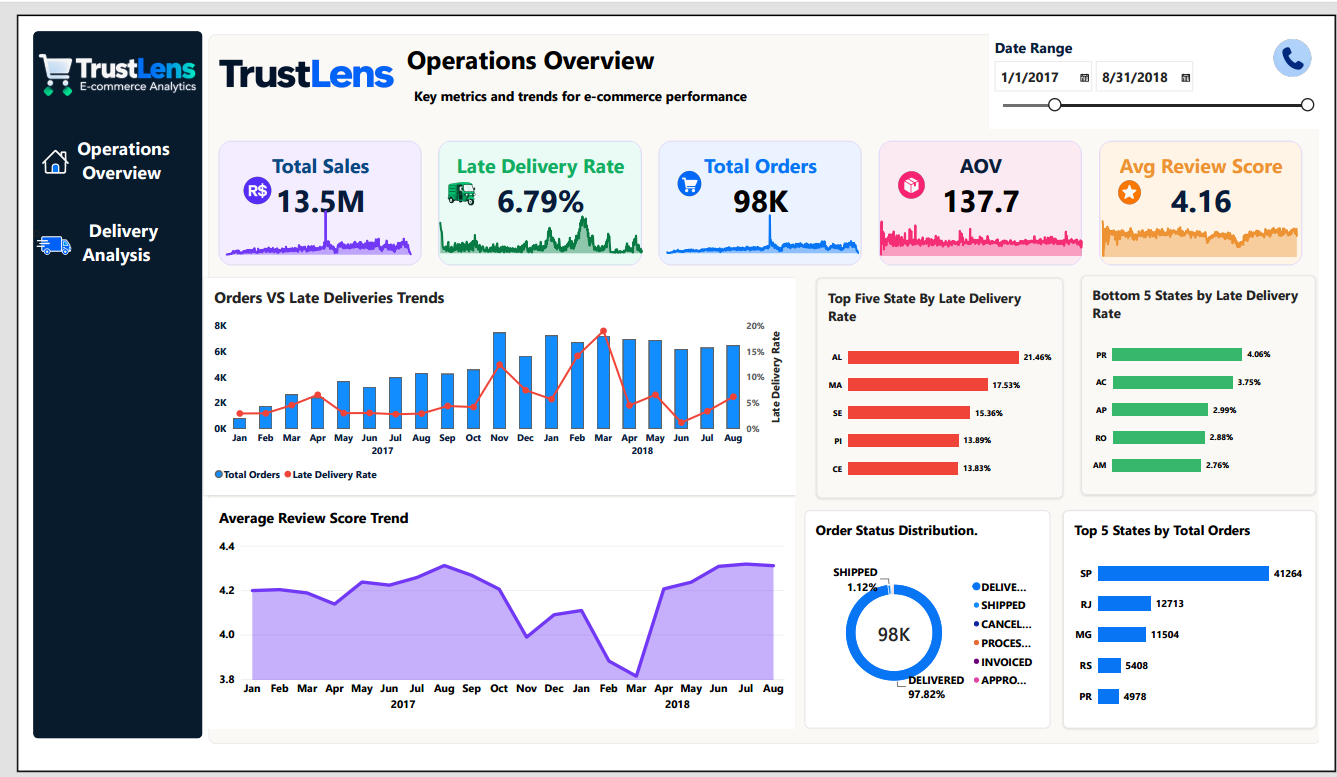

The page's visual inventory and layout, read from the dashboard file:
{"tool":"powerbi","page":{"name":"Operations Overview","canvas":[1920,1080],"ordinal":0},"visuals":[{"type":"shape","box":[261.6,4.6,1660,1060],"z":0},{"type":"shape","box":[0,0,252.7,1057.2],"z":1000},{"type":"image","box":[0,0,252.7,127.4],"z":2000},{"type":"cardVisual","fields":{"Data":["trustlens_final_data_cleaned.Dashboard Title"]},"box":[527.9,0,431.5,78],"z":3000},{"type":"cardVisual","fields":{"Data":["trustlens_final_data_cleaned.Dashboard Subtitle"]},"box":[553.1,73.4,535.1,44.4],"z":4000},{"type":"slicer","fields":{"Values":["DateTable.Date"]},"box":[1427.7,0,492.8,145.4],"z":5000},{"type":"cardVisual","fields":{"Data":["trustlens_final_data_cleaned.Total Sales"]},"box":[276.7,163.6,303.2,186],"z":6000},{"type":"lineChart","fields":{"Category":["DateTable.Date"],"Y":["trustlens_final_data_cleaned.Total Sales"]},"box":[262.6,246.4,327.2,105],"z":7000},{"type":"image","box":[1848.1,0,64.7,78.8],"z":8000},{"type":"cardVisual","fields":{"Data":["trustlens_final_data_cleaned.Late Delivery Rate"]},"box":[605.4,163.6,303.2,186],"z":9000},{"type":"cardVisual","fields":{"Data":["trustlens_final_data_cleaned.Avg Review Score"]},"box":[1591.6,163.6,303.2,186],"z":10000},{"type":"cardVisual","fields":{"Data":["trustlens_final_data_cleaned.Total Orders"]},"box":[934.2,163.6,303.2,186],"z":11000},{"type":"cardVisual","fields":{"Data":["trustlens_final_data_cleaned.AOV"]},"box":[1262.9,163.6,303.2,186],"z":12000},{"type":"image","box":[616,216.1,46.5,50.5],"z":13000},{"type":"lineChart","fields":{"Category":["DateTable.Date"],"Y":["trustlens_final_data_cleaned.Avg Review Score"]},"box":[1571.4,260.6,341.3,92.9],"z":14000},{"type":"lineChart","fields":{"Category":["DateTable.Date"],"Y":["trustlens_final_data_cleaned.Late Delivery Rate"]},"box":[581.7,236.3,353.5,113.1],"z":15000},{"type":"image","box":[1615.8,220.2,42,40],"z":16000},{"type":"lineChart","fields":{"Category":["DateTable.Date"],"Y":["trustlens_final_data_cleaned.Total Orders"]},"box":[921,236.3,337.3,113.1],"z":17000},{"type":"image","box":[959.3,206.6,42,40.4],"z":18000},{"type":"lineChart","fields":{"Category":["DateTable.Date"],"Y":["trustlens_final_data_cleaned.AOV"]},"box":[1240.2,252.5,351.4,101],"z":19000},{"type":"image","box":[1288.6,206,45,46],"z":20000},{"type":"lineStackedColumnComboChart","title":"Orders VS Late Deliveries Trends","fields":{"Category":["DateTable.Year","DateTable.Month"],"Y":["trustlens_final_data_cleaned.Total Orders"],"Y2":["trustlens_final_data_cleaned.Late Delivery Rate"]},"box":[254.7,369.5,883.6,323.6],"z":21000},{"type":"clusteredBarChart","title":"Top Five State By Late Delivery Rate ","fields":{"Category":["customers.customer_state"],"Y":["trustlens_final_data_cleaned.Late Delivery Rate"]},"box":[1170.5,369.5,367.2,328.2],"z":22000},{"type":"clusteredBarChart","title":"Bottom 5 States by Late Delivery Rate","fields":{"Category":["customers.customer_state"],"Y":["trustlens_final_data_cleaned.Late Delivery Rate"]},"box":[1565.2,364.9,350,328.2],"z":23000},{"type":"lineChart","title":"Average Review Score Trend","fields":{"Category":["DateTable.Year","DateTable.Month"],"Y":["trustlens_final_data_cleaned.Avg Review Score"]},"box":[261.6,697.7,876.7,344.3],"z":24000},{"type":"donutChart","title":"Order Status Distribution.","fields":{"Category":["trustlens_final_data_cleaned.order_status"],"Y":["trustlens_final_data_cleaned.Total Orders"]},"box":[1152.1,716,367.2,325.9],"z":25000},{"type":"clusteredBarChart","title":"Top 5 States by Total Orders","fields":{"Category":["customers.customer_state"],"Y":["trustlens_final_data_cleaned.Total Orders"]},"box":[1537.7,716,378.7,325.9],"z":26000},{"type":"image","box":[261.6,0,289.2,126.2],"z":27000},{"type":"image","box":[314.4,206.6,41.3,62],"z":28000},{"type":"actionButton","box":[4,270.7,248.4,115.1],"z":29000},{"type":"image","box":[0,279.6,60.1,78.6],"z":30000},{"type":"textbox","box":[0,278.7,246.6,92.8],"z":31000},{"type":"textbox","box":[0,155.5,246.4,90.9],"z":32000},{"type":"image","box":[6.1,163.6,54.5,62.6],"z":33000}]}

Visuals, with their boxes on the page's 1920x1080 design canvas (x1, y1, x2, y2). These are canvas units, not pixel positions in the 1337x777 screenshot, which may show the page scaled, cropped or inside an application window:
shape: bbox=[262, 5, 1922, 1065]
shape: bbox=[0, 0, 253, 1057]
image: bbox=[0, 0, 253, 127]
cardVisual - trustlens_final_data_cleaned.Dashboard Title: bbox=[528, 0, 959, 78]
cardVisual - trustlens_final_data_cleaned.Dashboard Subtitle: bbox=[553, 73, 1088, 118]
slicer - DateTable.Date: bbox=[1428, 0, 1920, 145]
cardVisual - trustlens_final_data_cleaned.Total Sales: bbox=[277, 164, 580, 350]
lineChart - DateTable.Date x trustlens_final_data_cleaned.Total Sales: bbox=[263, 246, 590, 351]
image: bbox=[1848, 0, 1913, 79]
cardVisual - trustlens_final_data_cleaned.Late Delivery Rate: bbox=[605, 164, 909, 350]
cardVisual - trustlens_final_data_cleaned.Avg Review Score: bbox=[1592, 164, 1895, 350]
cardVisual - trustlens_final_data_cleaned.Total Orders: bbox=[934, 164, 1237, 350]
cardVisual - trustlens_final_data_cleaned.AOV: bbox=[1263, 164, 1566, 350]
image: bbox=[616, 216, 662, 267]
lineChart - DateTable.Date x trustlens_final_data_cleaned.Avg Review Score: bbox=[1571, 261, 1913, 354]
lineChart - DateTable.Date x trustlens_final_data_cleaned.Late Delivery Rate: bbox=[582, 236, 935, 349]
image: bbox=[1616, 220, 1658, 260]
lineChart - DateTable.Date x trustlens_final_data_cleaned.Total Orders: bbox=[921, 236, 1258, 349]
image: bbox=[959, 207, 1001, 247]
lineChart - DateTable.Date x trustlens_final_data_cleaned.AOV: bbox=[1240, 252, 1592, 354]
image: bbox=[1289, 206, 1334, 252]
"Orders VS Late Deliveries Trends" lineStackedColumnComboChart: bbox=[255, 370, 1138, 693]
"Top Five State By Late Delivery Rate " clusteredBarChart: bbox=[1170, 370, 1538, 698]
"Bottom 5 States by Late Delivery Rate" clusteredBarChart: bbox=[1565, 365, 1915, 693]
"Average Review Score Trend" lineChart: bbox=[262, 698, 1138, 1042]
"Order Status Distribution." donutChart: bbox=[1152, 716, 1519, 1042]
"Top 5 States by Total Orders" clusteredBarChart: bbox=[1538, 716, 1916, 1042]
image: bbox=[262, 0, 551, 126]
image: bbox=[314, 207, 356, 269]
actionButton: bbox=[4, 271, 252, 386]
image: bbox=[0, 280, 60, 358]
textbox: bbox=[0, 279, 247, 372]
textbox: bbox=[0, 156, 246, 246]
image: bbox=[6, 164, 61, 226]
